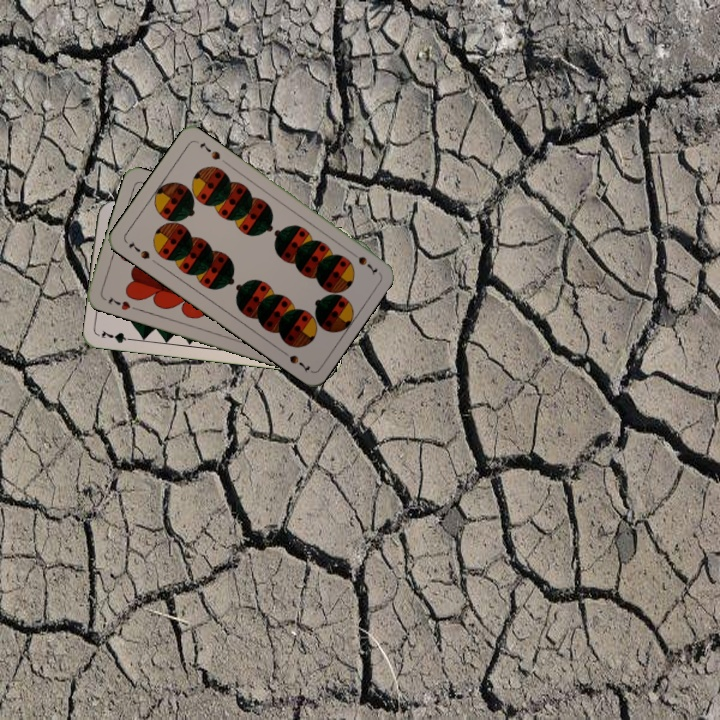G7: (97, 326, 137, 346)
H7: (104, 292, 133, 313)
S7: (346, 247, 380, 277), (125, 238, 153, 262)
